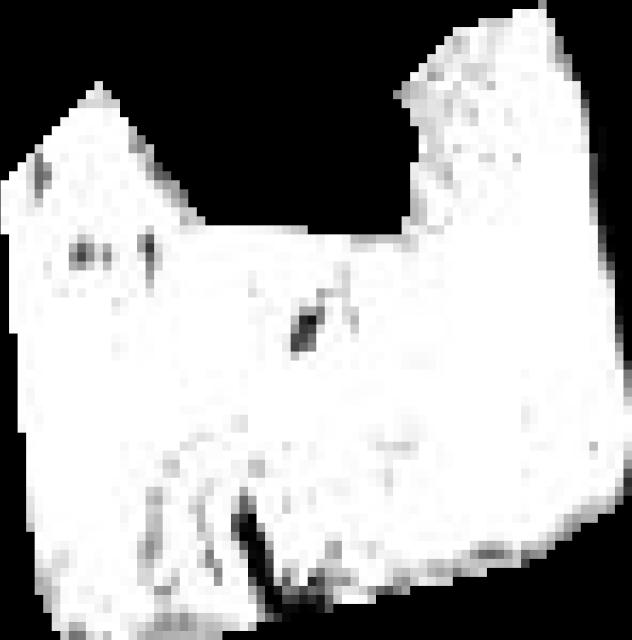tumor_good_chance: (1, 0, 632, 640)
